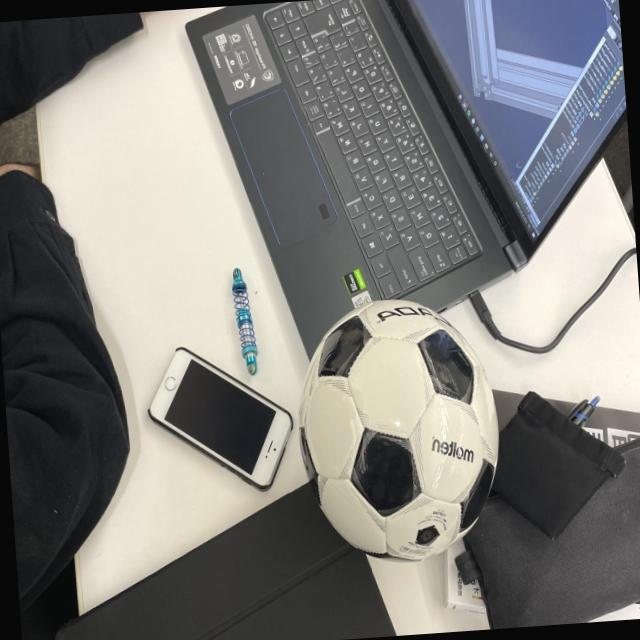Soccer Ball: (292, 290, 509, 570)
